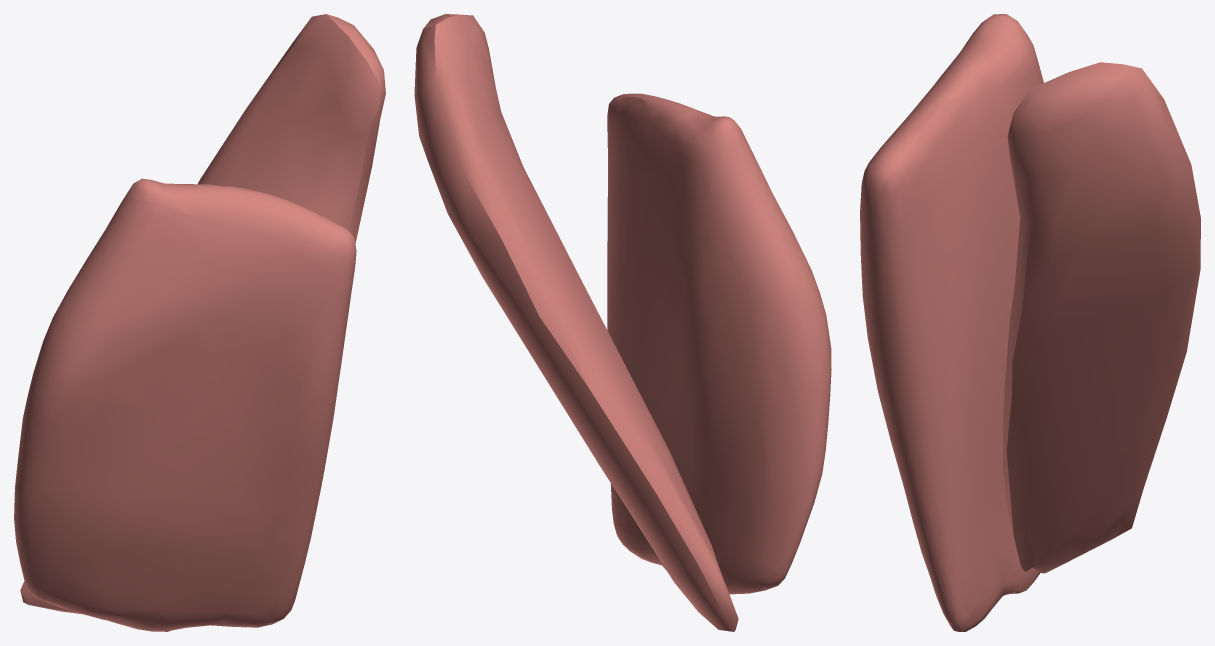
Rendered from fma81590_mm2383m.glb.
The picture shows the model from 3 angles, left to right: view 1: azimuth 30°, elevation 25°; view 2: azimuth 150°, elevation 25°; view 3: azimuth 270°, elevation 25°; orthographic projection. The views are drawn at different scales.
Visible parts, largest first — view 1: FMA81590_MM2383M; view 2: FMA81590_MM2383M; view 3: FMA81590_MM2383M.
Boxes of the visible parts, x1,y1,x2,y2 form: FMA81590_MM2383M: [14, 14, 385, 631]; FMA81590_MM2383M: [414, 14, 831, 631]; FMA81590_MM2383M: [860, 14, 1200, 631].
Bounding box in the file's own units: 0.02 × 0.0278 × 0.0132.
